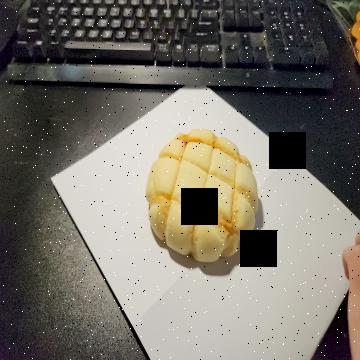melon_bread: (144, 128, 260, 265)
